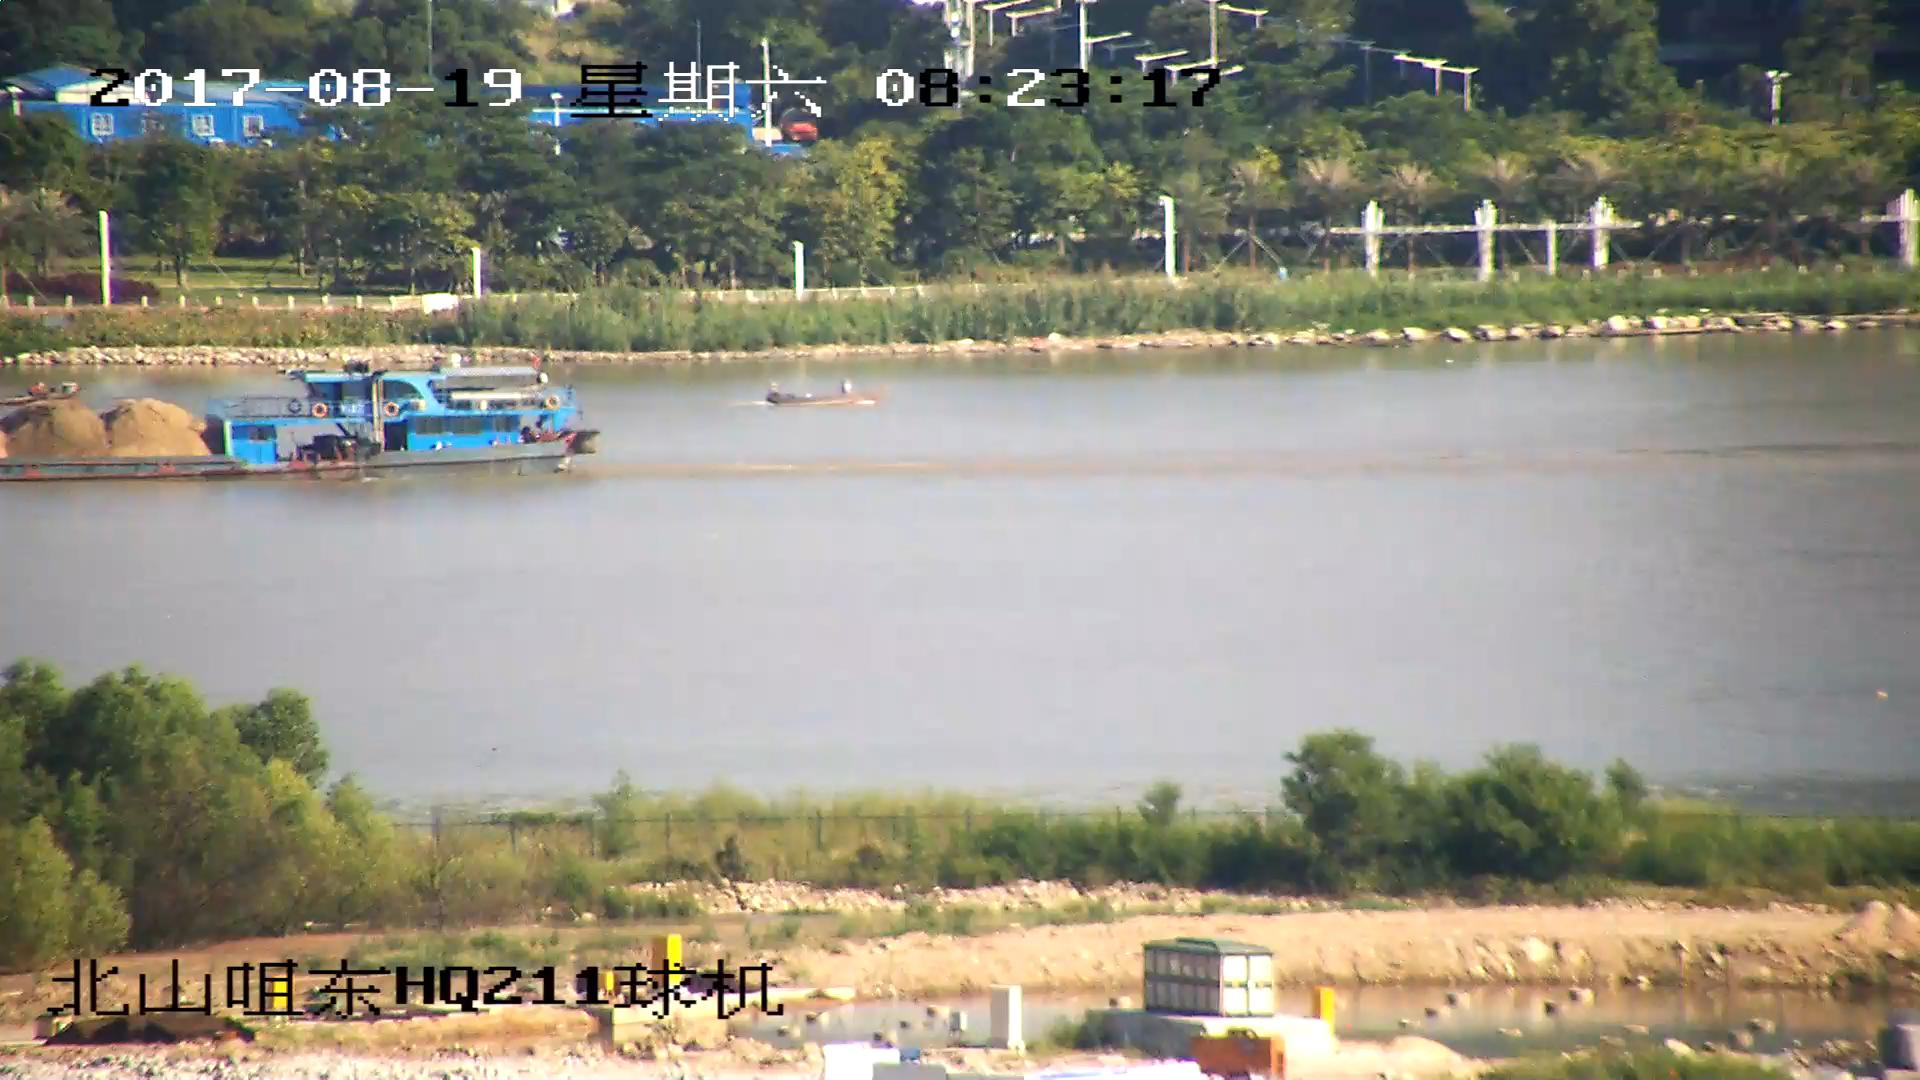fishing boat: (764, 380, 874, 409)
ore carrier: (1, 349, 597, 479)
